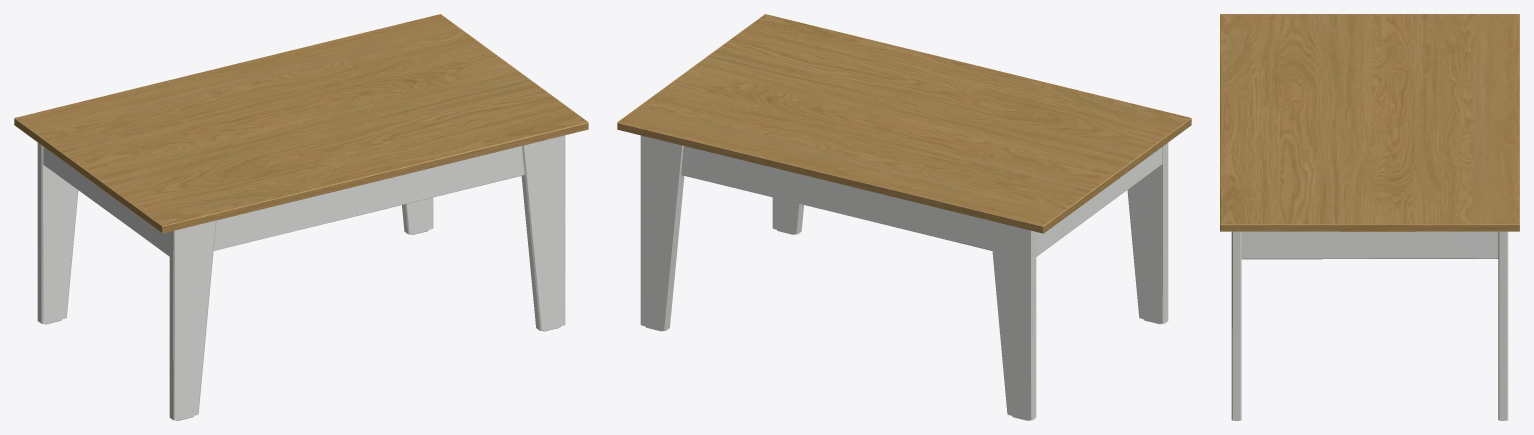
3 views of the same model, side by side, from view 1: azimuth 30°, elevation 25°; view 2: azimuth 150°, elevation 25°; view 3: azimuth 270°, elevation 25° (orthographic).
Parts seen in each view (by area): view 1: aa348dcb-a45b-4201-9179-8c0e4be4e2ca; view 2: aa348dcb-a45b-4201-9179-8c0e4be4e2ca; view 3: aa348dcb-a45b-4201-9179-8c0e4be4e2ca.
Part boxes in pixels (x1,y1,x2,y2): aa348dcb-a45b-4201-9179-8c0e4be4e2ca: [14, 14, 588, 420]; aa348dcb-a45b-4201-9179-8c0e4be4e2ca: [617, 14, 1191, 420]; aa348dcb-a45b-4201-9179-8c0e4be4e2ca: [1220, 14, 1519, 420].
Size of the model in its own units: 0.98 by 0.45 by 0.59.
Materials: 1 (1 with a texture image).
